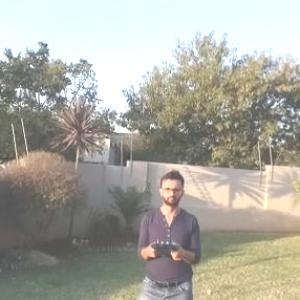follow: (134, 170, 206, 299)
